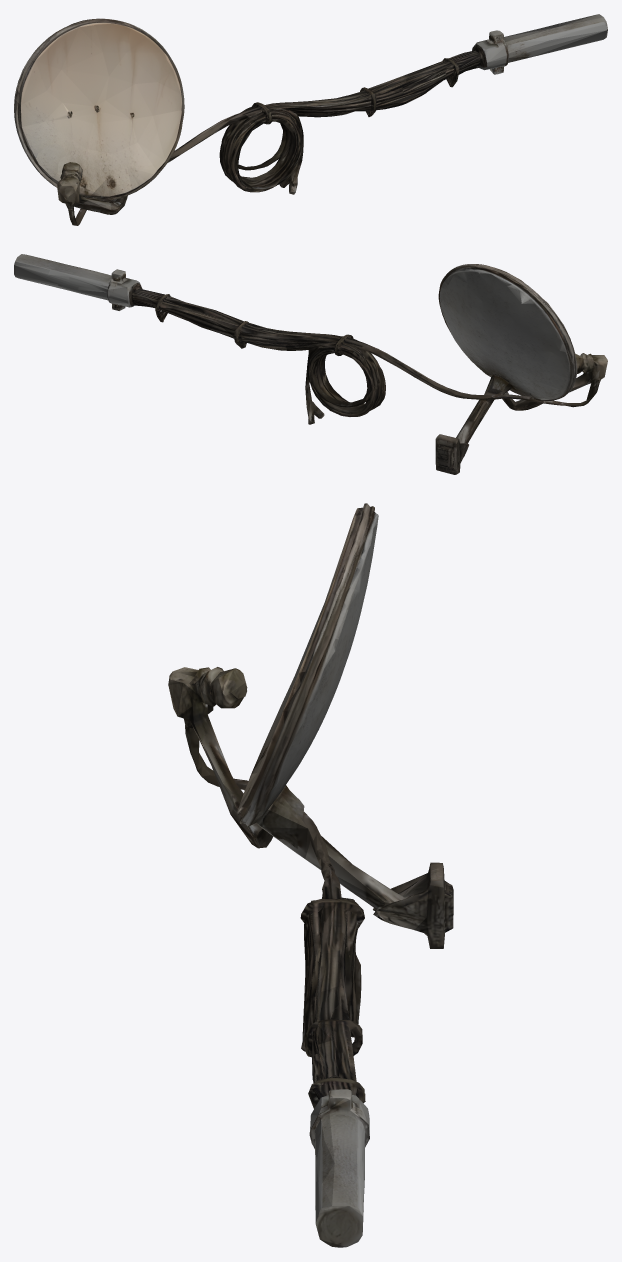
The model's file is Satellite dish.fbx.
3 views of the same model, one above another, from view 1: azimuth 30°, elevation 25°; view 2: azimuth 150°, elevation 25°; view 3: azimuth 270°, elevation 25° (orthographic). The views are drawn at different scales.
Visible parts, largest first — view 1: node_0; view 2: node_0; view 3: node_0.
Boxes of the visible parts, x1,y1,x2,y2 form: node_0: [14, 14, 607, 225]; node_0: [14, 254, 607, 474]; node_0: [168, 503, 453, 1247].
Bounding box in the file's own units: 46.87 × 16.38 × 10.45.
Materials: 1 (1 with a texture image).
